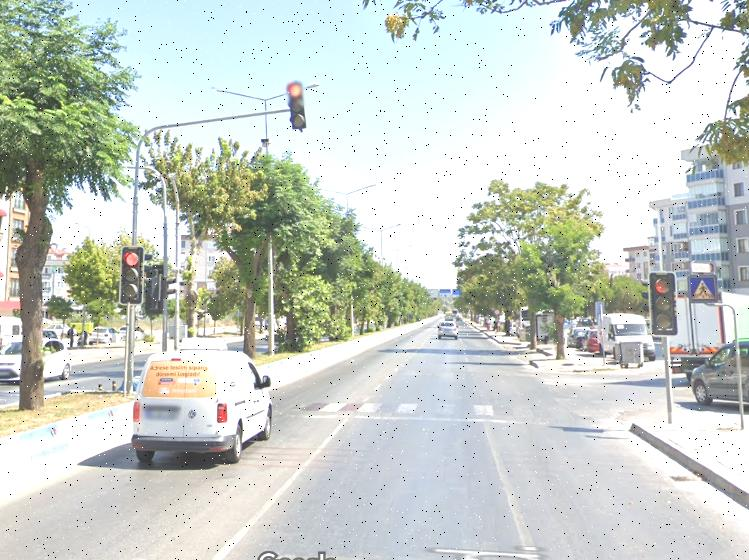redlight: (649, 271, 676, 333), (284, 80, 307, 132), (120, 244, 141, 299)
